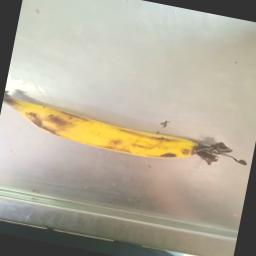Banana Unripe: (3, 96, 247, 166)
